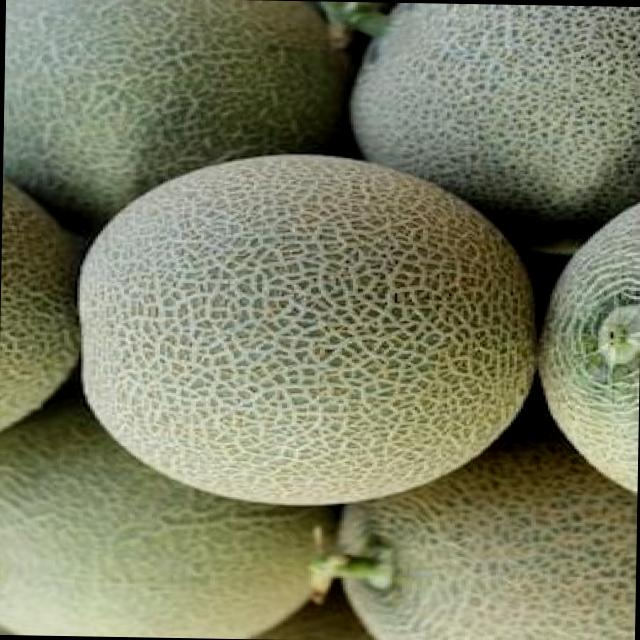cantaloupe: (75, 150, 537, 504)
